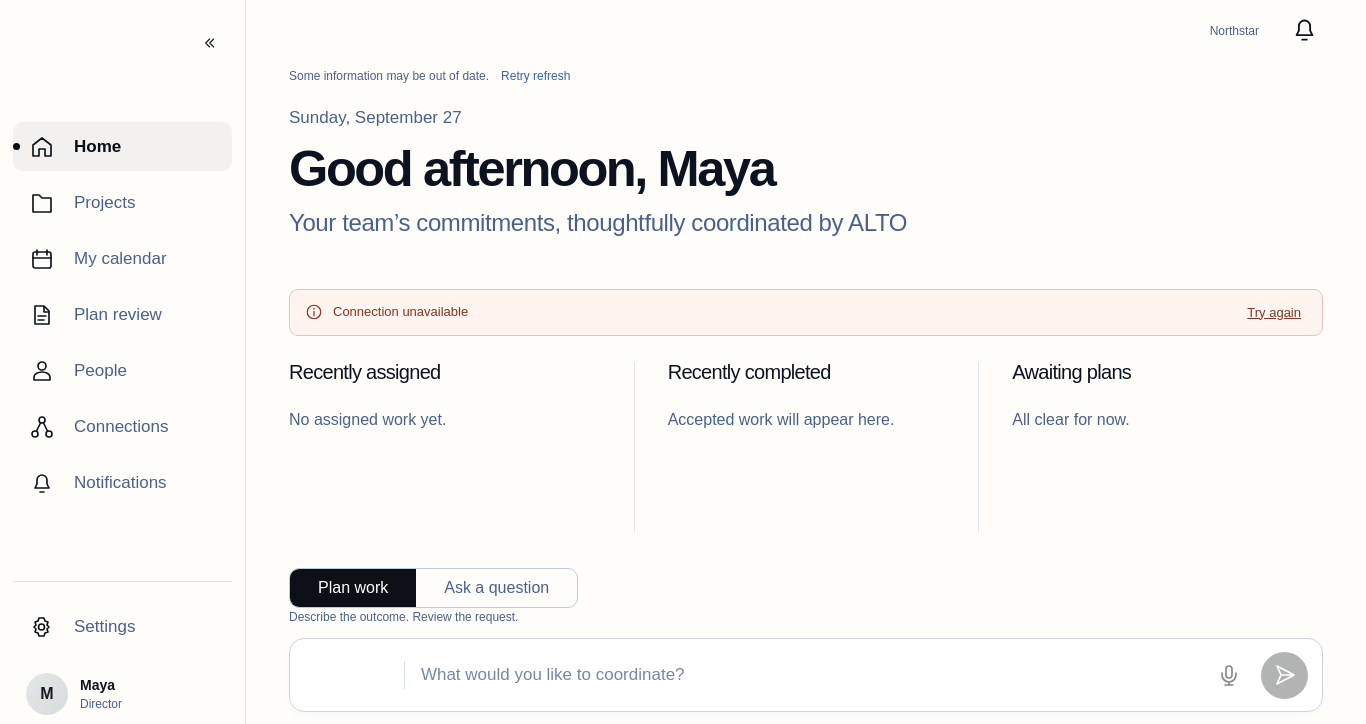
Test: simple Home planning and work flow › keeps successful background refreshes silent and offers a discreet read-only retry after failure
Check: the button "Plan work" is shown, box x1=290 y1=569 x2=416 y2=607
Check: the text "Some information may be out of date." is shown, box x1=289 y1=69 x2=489 y2=83
Click the button "Retry refresh" at (536, 76), box x1=501 y1=66 x2=570 y2=86
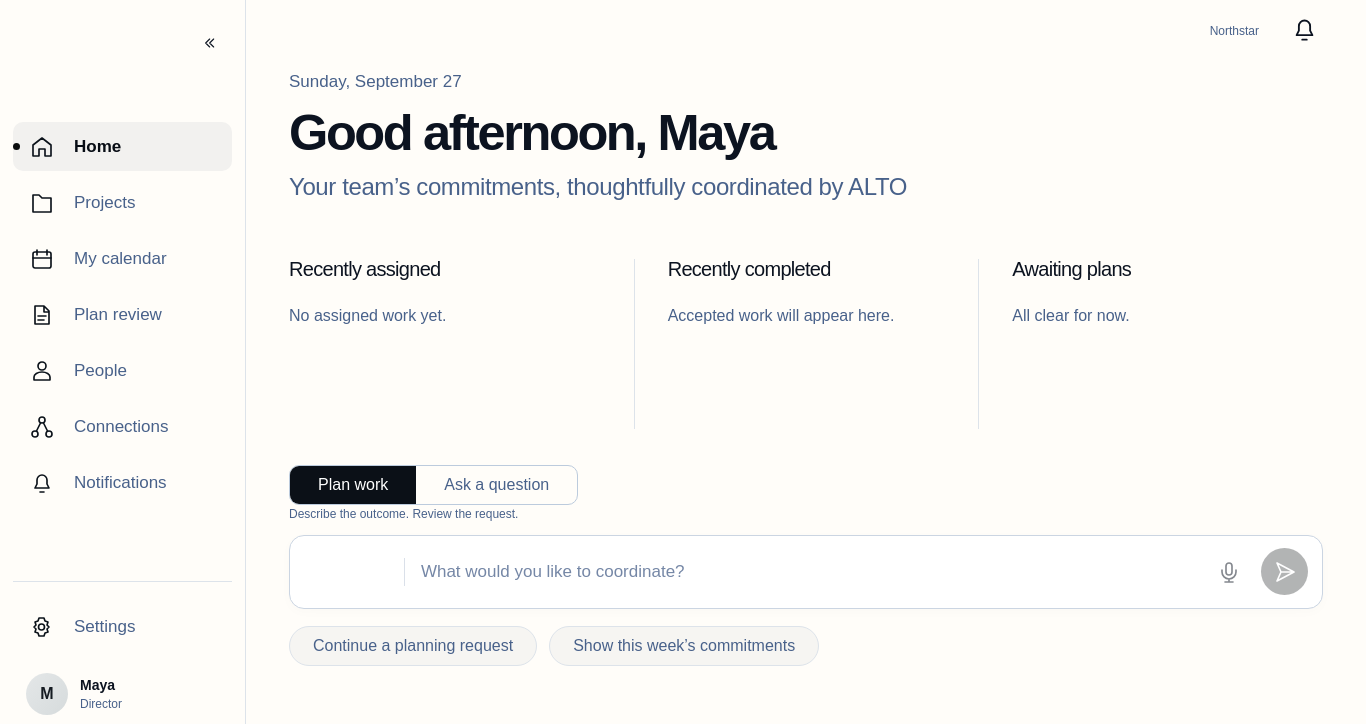
Check: the text "Some information may be out of date." is gone
